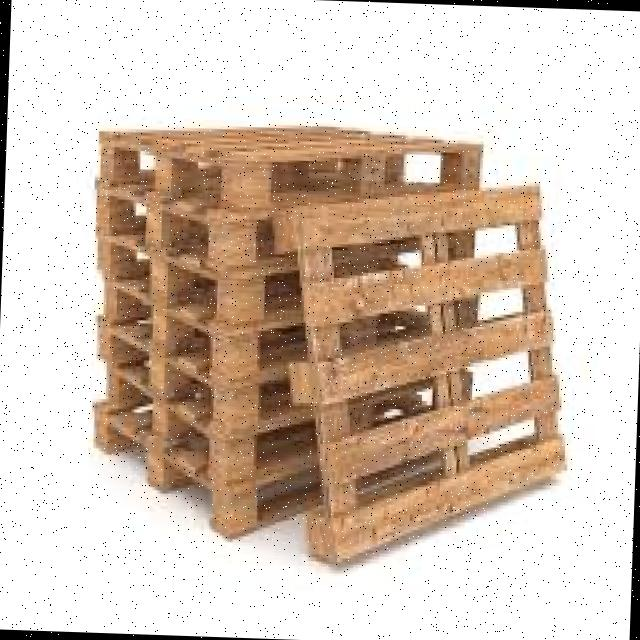Wooden-Pallets: (268, 184, 583, 581), (86, 109, 490, 214), (99, 277, 226, 389)
